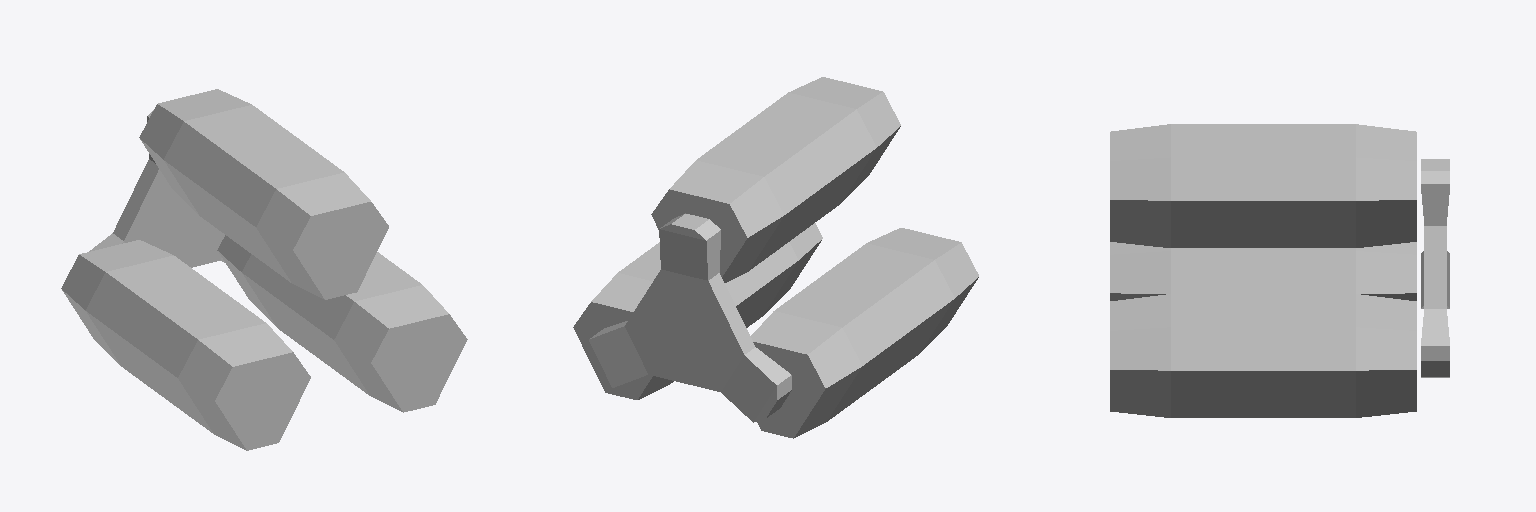
File: taucannon_coil.obj
3 views of the same model, side by side, from view 1: azimuth 30°, elevation 25°; view 2: azimuth 150°, elevation 25°; view 3: azimuth 270°, elevation 25° (orthographic).
Visible parts, largest first — view 1: buggy_tau_reference; view 2: buggy_tau_reference; view 3: buggy_tau_reference.
Boxes of the visible parts, x1,y1,x2,y2 form: buggy_tau_reference: [61, 89, 467, 450]; buggy_tau_reference: [573, 77, 978, 438]; buggy_tau_reference: [1110, 124, 1449, 417].
Size of the model in its own units: 6.65 by 5.52 by 7.4.